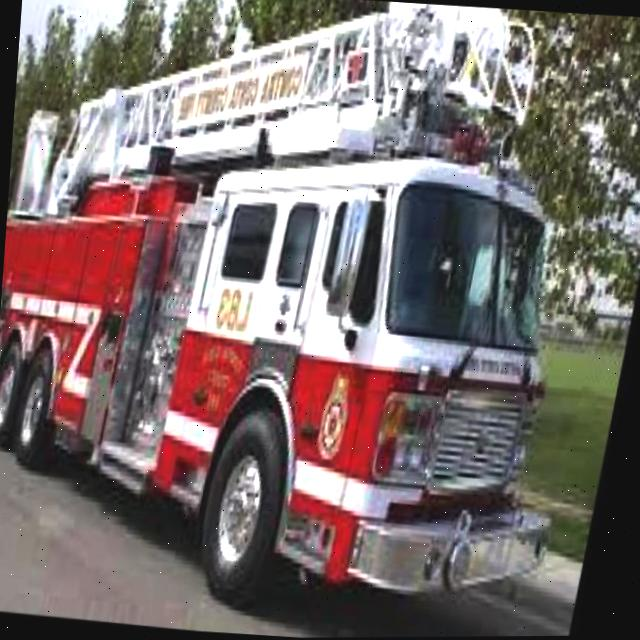emergency: (0, 0, 589, 632)
